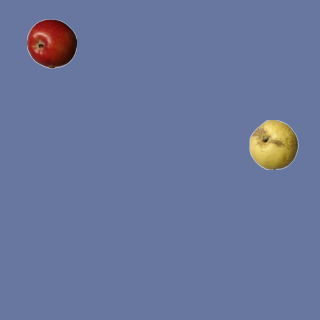Apple Braeburn: (26, 18, 76, 68)
Apple Golden 1: (248, 119, 298, 169)
